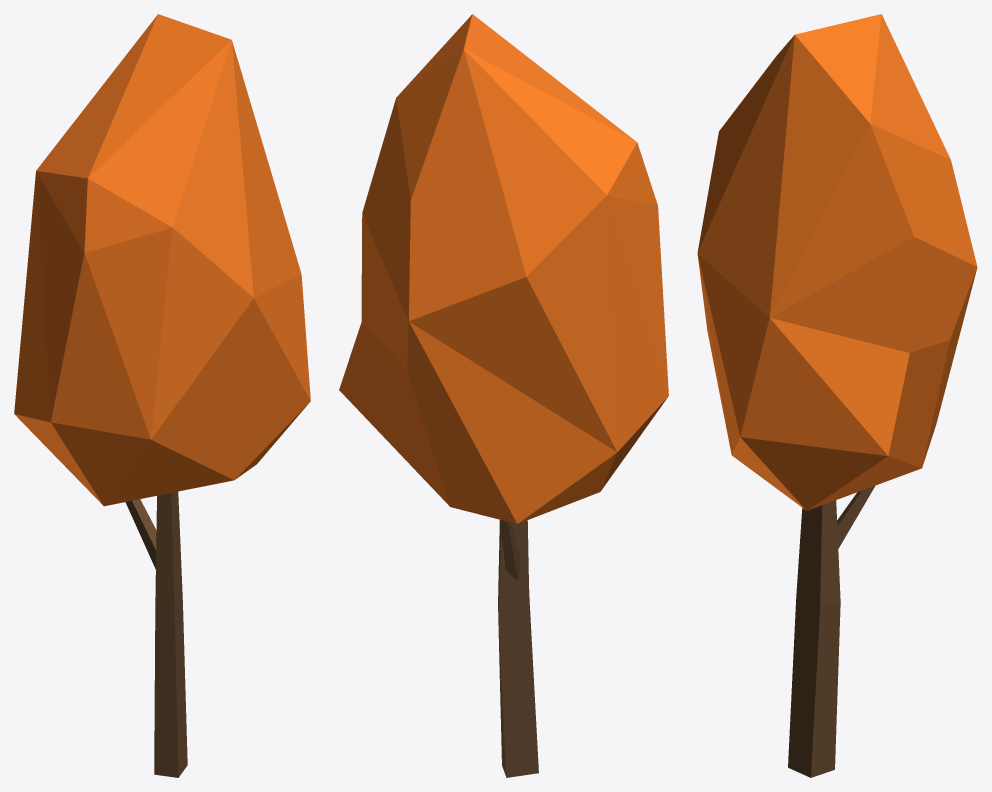
The model's file is tree-simple_orange.glb.
The picture shows the model from 3 angles, left to right: view 1: azimuth 30°, elevation 25°; view 2: azimuth 150°, elevation 25°; view 3: azimuth 270°, elevation 25°; orthographic projection. The views are drawn at different scales.
Parts seen in each view (by area): view 1: tree-simple_orange; view 2: tree-simple_orange; view 3: tree-simple_orange.
Part boxes in pixels (x1,y1,x2,y2): tree-simple_orange: [14, 14, 310, 777]; tree-simple_orange: [339, 14, 668, 777]; tree-simple_orange: [697, 14, 977, 777].
Bounding box in the file's own units: 1.98 × 5.02 × 1.66.
Materials: 1 (1 with a texture image).
